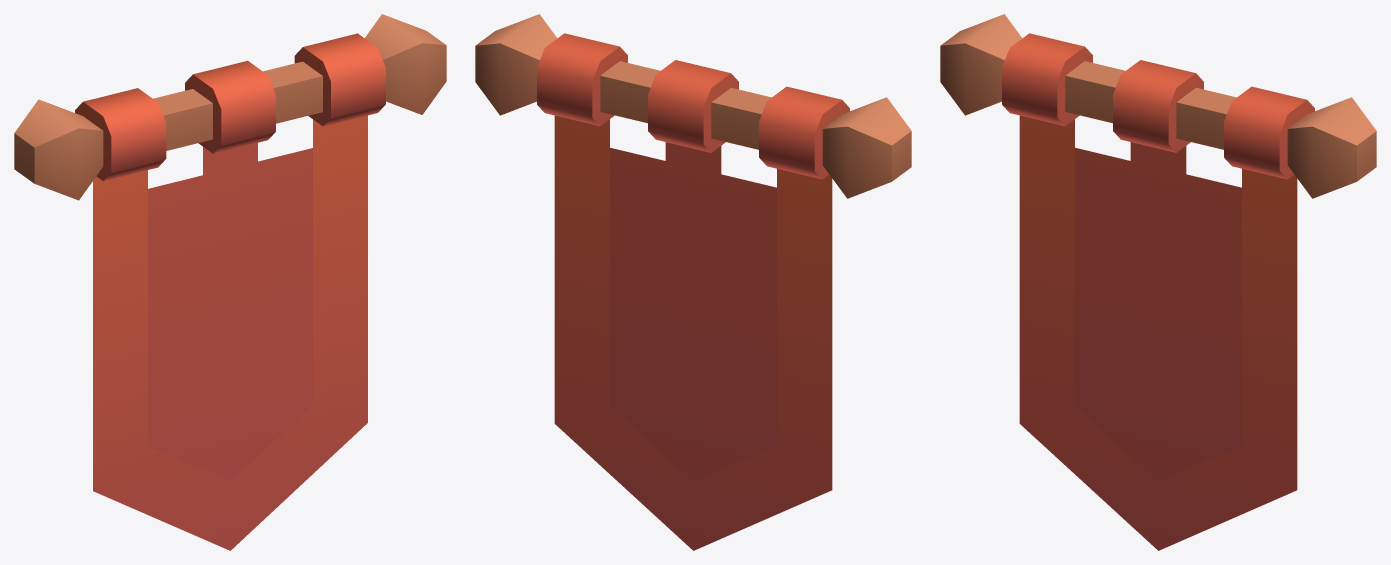
Rendered from banner.004_lev5.glb.
3 renders of one model, left to right at view 1: azimuth 30°, elevation 25°; view 2: azimuth 150°, elevation 25°; view 3: azimuth 330°, elevation 25°, orthographic.
Parts seen in each view (by area): view 1: banner.004_lev5; view 2: banner.004_lev5; view 3: banner.004_lev5.
Part boxes in pixels (box(x1,y1,x2,y2)): banner.004_lev5: box(14, 14, 446, 550); banner.004_lev5: box(475, 14, 911, 550); banner.004_lev5: box(940, 14, 1376, 550).
Bounding box in the file's own units: 2.4 × 2.66 × 0.4159.
Materials: 1 (1 with a texture image).
